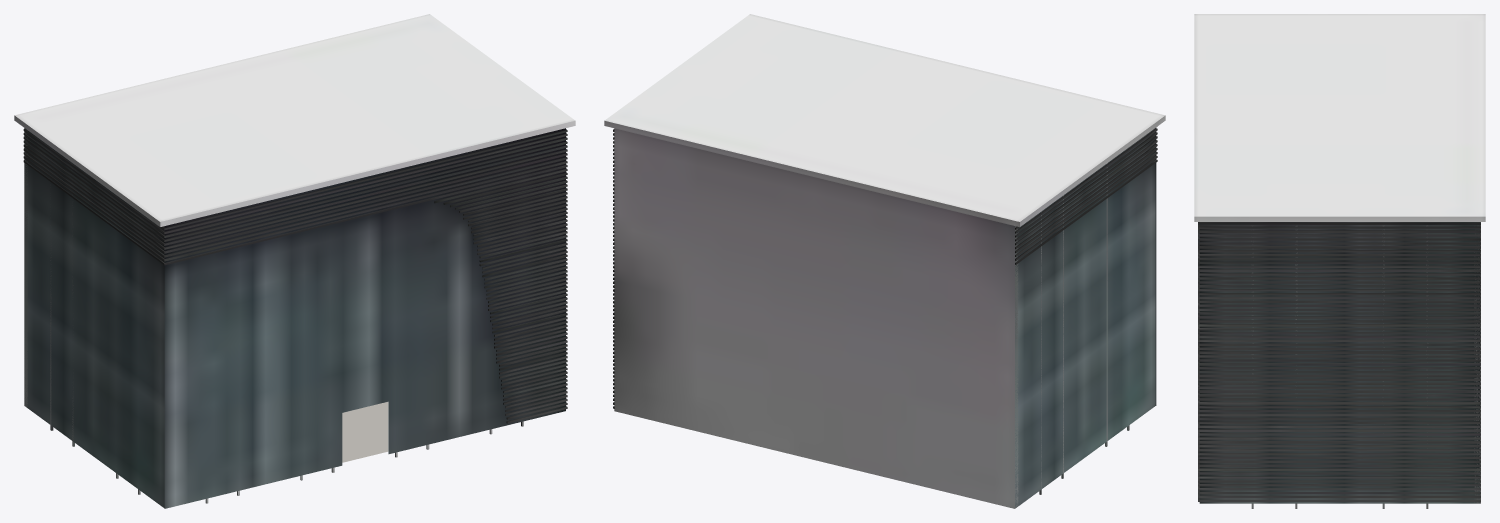
The model's file is car-showroom.access-v24.lod1.glb.
3 views of the same model, side by side, from view 1: azimuth 30°, elevation 25°; view 2: azimuth 150°, elevation 25°; view 3: azimuth 270°, elevation 25° (orthographic).
Parts seen in each view (by area): view 1: Object001_Object001_mtl_0, Walkable floors and stairs; view 2: Object001_Object001_mtl_0; view 3: Object001_Object001_mtl_0.
Boxes of the visible parts, x1,y1,x2,y2 form: Object001_Object001_mtl_0: [14, 14, 575, 508]; Walkable floors and stairs: [342, 402, 388, 462]; Object001_Object001_mtl_0: [604, 14, 1165, 508]; Object001_Object001_mtl_0: [1194, 14, 1485, 508].
Size of the model in its own units: 18 by 12.24 by 10.94.
Materials: 4 (1 with a texture image).
